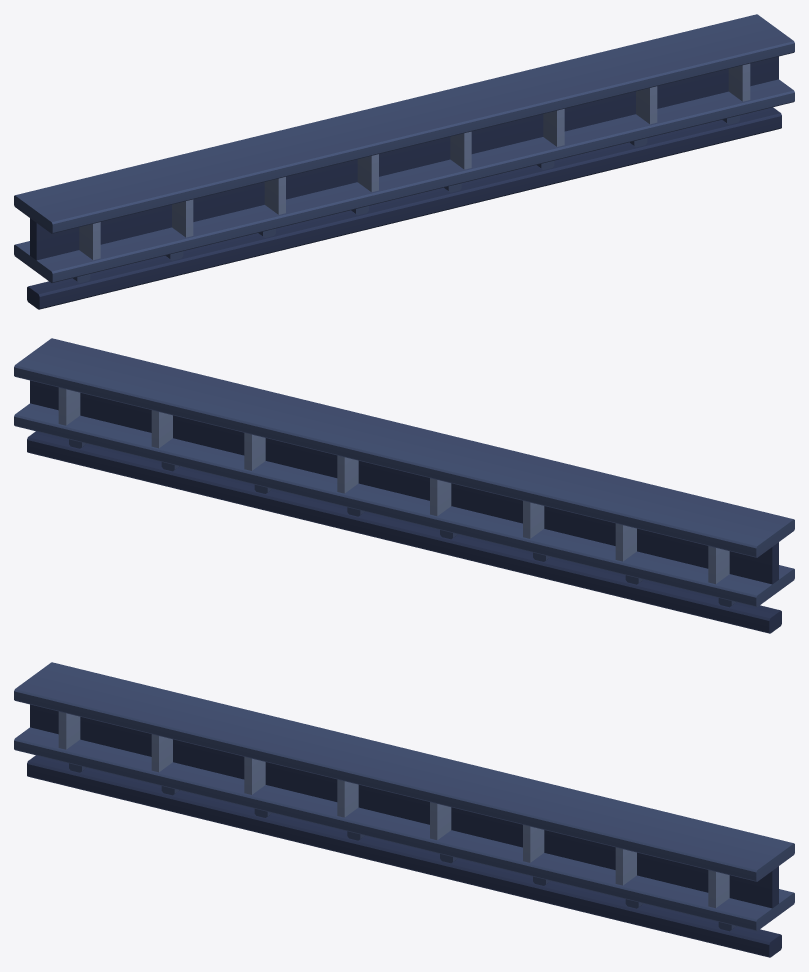
Rendered from SM_Beam_4m.fbx.
3 renders of one model, top to bottom at view 1: azimuth 30°, elevation 25°; view 2: azimuth 150°, elevation 25°; view 3: azimuth 330°, elevation 25°, orthographic.
Parts seen in each view (by area): view 1: SM_Beam_4m; view 2: SM_Beam_4m; view 3: SM_Beam_4m.
Boxes of the visible parts, x1,y1,x2,y2 form: SM_Beam_4m: [14, 14, 794, 309]; SM_Beam_4m: [14, 338, 794, 633]; SM_Beam_4m: [14, 662, 794, 957].
Size of the model in its own units: 4 by 0.5 by 0.36.
Materials: 1 (1 with a texture image).
